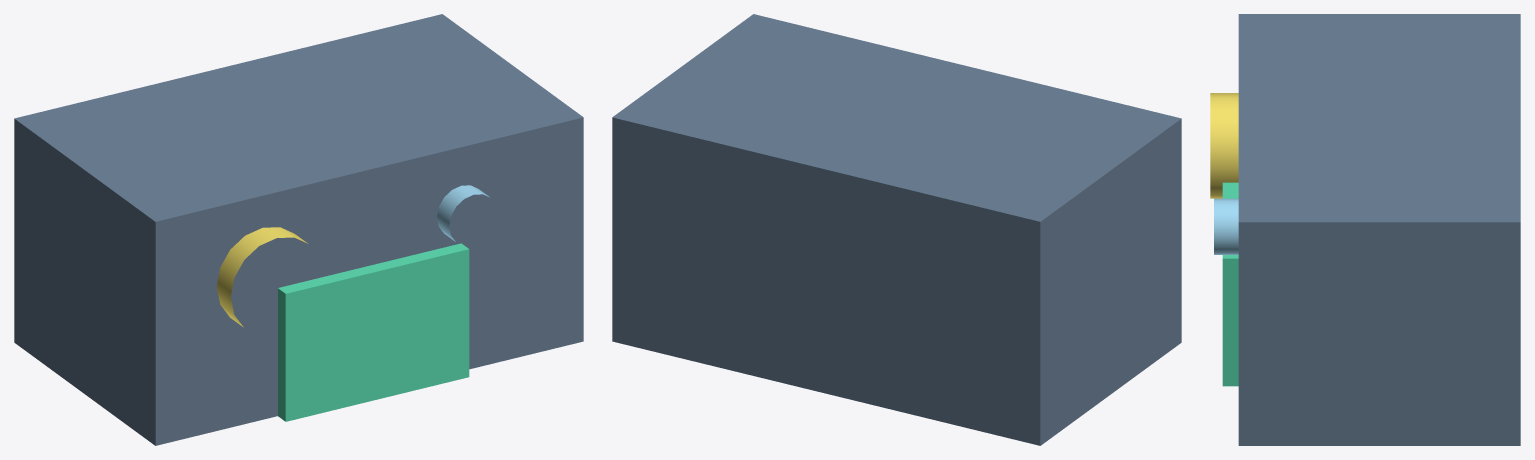
Rendered from routh_hurwitz_stability_criterion.glb.
3 renders of one model, left to right at view 1: azimuth 30°, elevation 25°; view 2: azimuth 150°, elevation 25°; view 3: azimuth 270°, elevation 25°, orthographic.
Visible parts, largest first — view 1: FeedbackControlSystemChassis, StabilityPhaseMarginDisplay, SummingJunctionOpAmpNode, RouthArrayParameterKnobs; view 2: FeedbackControlSystemChassis; view 3: FeedbackControlSystemChassis, SummingJunctionOpAmpNode, StabilityPhaseMarginDisplay, RouthArrayParameterKnobs.
Boxes of the visible parts, <box> form: FeedbackControlSystemChassis: <box>14,14,583,445</box>; StabilityPhaseMarginDisplay: <box>278,243,469,421</box>; SummingJunctionOpAmpNode: <box>216,227,308,327</box>; RouthArrayParameterKnobs: <box>437,185,489,241</box>; FeedbackControlSystemChassis: <box>612,14,1181,445</box>; FeedbackControlSystemChassis: <box>1238,14,1520,445</box>; SummingJunctionOpAmpNode: <box>1210,93,1238,198</box>; StabilityPhaseMarginDisplay: <box>1222,182,1238,386</box>; RouthArrayParameterKnobs: <box>1214,198,1238,254</box>.
Bounding box in the file's own units: 1.4 × 0.7 × 0.88.
